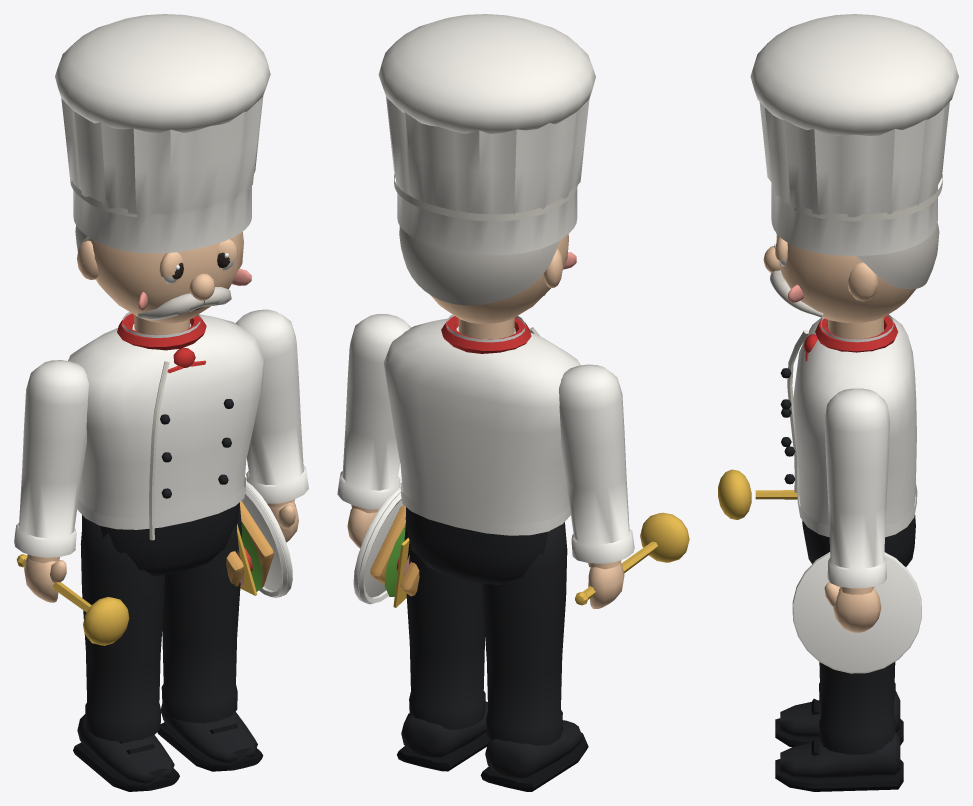
The model's file is Character_Class_head_chef.fbx.
3 renders of one model, left to right at view 1: azimuth 30°, elevation 25°; view 2: azimuth 150°, elevation 25°; view 3: azimuth 270°, elevation 25°, orthographic.
Visible parts, largest first — view 1: Toque, Torso, LegR, LegL, ArmR, ArmL, Head, Hips, LegR_Shoe, LegL_Shoe, Plate, Ladle (+10 smaller); view 2: Toque, Torso, LegR, ArmR, LegL, ArmL, Hair, Hips, Head, LegR_Shoe, Ladle, Plate (+9 smaller); view 3: Toque, Torso, ArmL, Plate, Head, LegL, LegL_Shoe, Hair, HandL, LegL_Sole, Ladle, Hips (+7 smaller).
Part boxes in pixels (x1,y1,x2,y2): Toque: (55,14,270,253); Torso: (68,314,264,529); LegR: (80,517,164,741); LegL: (161,503,242,723); ArmR: (14,360,88,557); ArmL: (236,309,308,503); Head: (77,231,243,335); Hips: (82,502,239,576); LegR_Shoe: (77,714,174,783); LegL_Shoe: (161,704,257,762); Plate: (241,481,292,597); Ladle: (16,554,129,645); Toque: (378,14,595,255); Torso: (383,318,580,535); LegR: (482,523,567,745); ArmR: (559,364,634,563); LegL: (404,523,485,729); ArmL: (337,314,410,509); Hair: (399,226,559,305); Hips: (405,507,564,584); Head: (430,234,568,339); LegR_Shoe: (485,720,582,778); Ladle: (575,512,689,605); Plate: (353,486,403,604); Toque: (750,14,958,255); Torso: (793,317,917,537); ArmL: (824,388,889,588); Plate: (792,552,921,673); Head: (763,234,916,339); LegL: (819,548,895,754); LegL_Shoe: (780,731,900,778); Hair: (856,223,939,289); HandL: (824,582,881,632); LegL_Sole: (775,739,903,791); Ladle: (718,469,797,519); Hips: (802,515,915,566).
Bounding box in the file's own units: 253 × 614 × 185.
